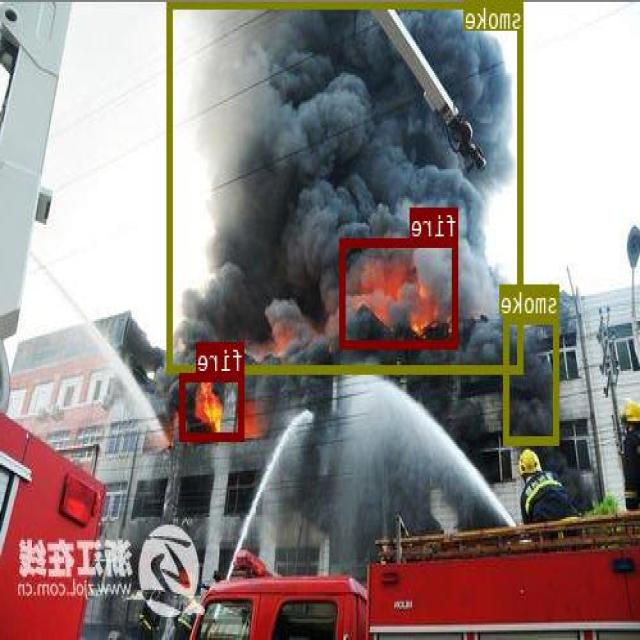fire: (342, 239, 458, 347), (180, 374, 246, 441)
smoke: (168, 0, 524, 371), (505, 314, 560, 445)
